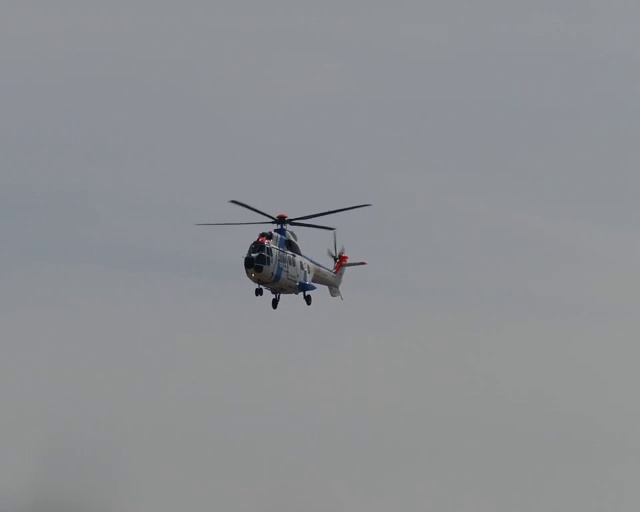HELICOPTER: (191, 199, 373, 309)
